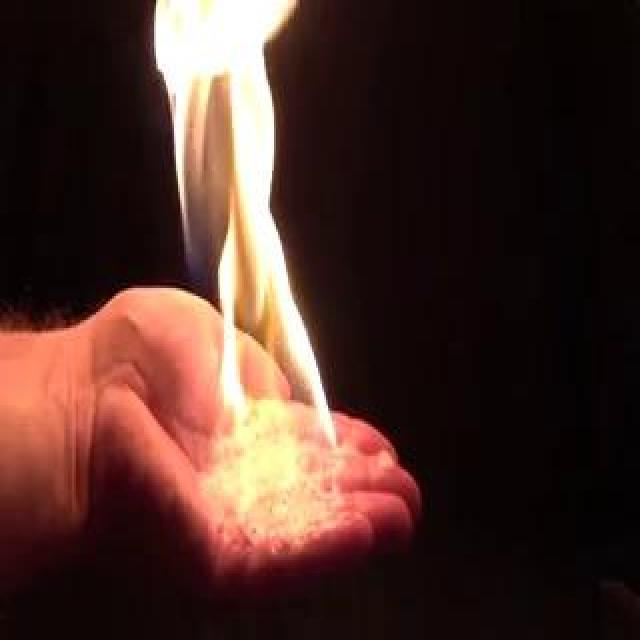Fire: (163, 3, 329, 477)
